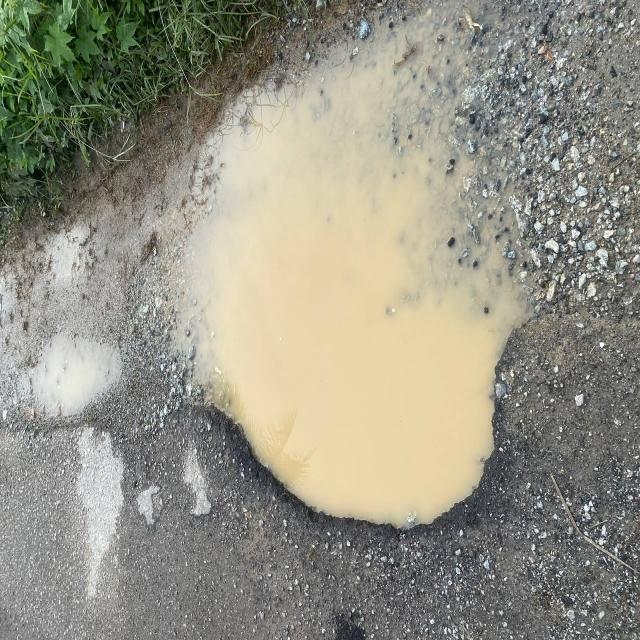pothole: (90, 234, 552, 579)
